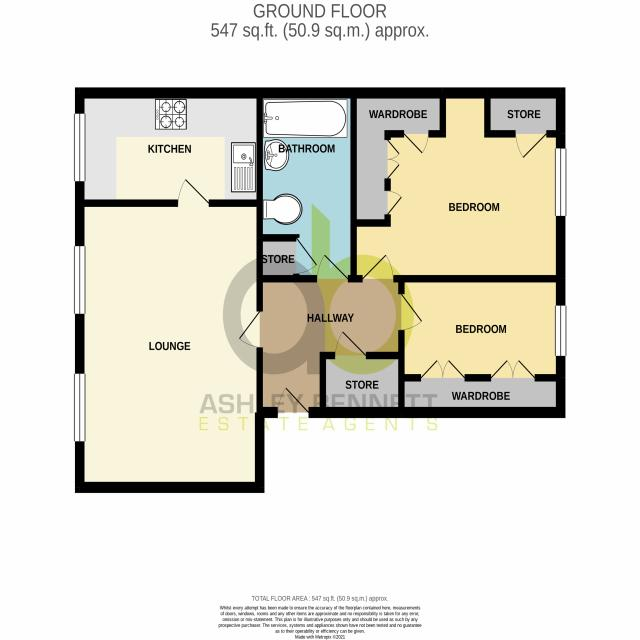DOOR: (290, 233, 319, 275), (397, 292, 425, 334), (277, 385, 310, 419), (237, 310, 264, 350), (177, 177, 210, 208), (334, 329, 367, 360), (362, 252, 394, 283), (316, 253, 349, 283)
ROOM: (73, 176, 265, 494), (351, 86, 567, 283), (397, 271, 565, 416), (73, 87, 264, 207)
WINDOW: (554, 147, 567, 218), (73, 245, 86, 315), (73, 113, 86, 182), (73, 373, 86, 442), (554, 305, 567, 357)
